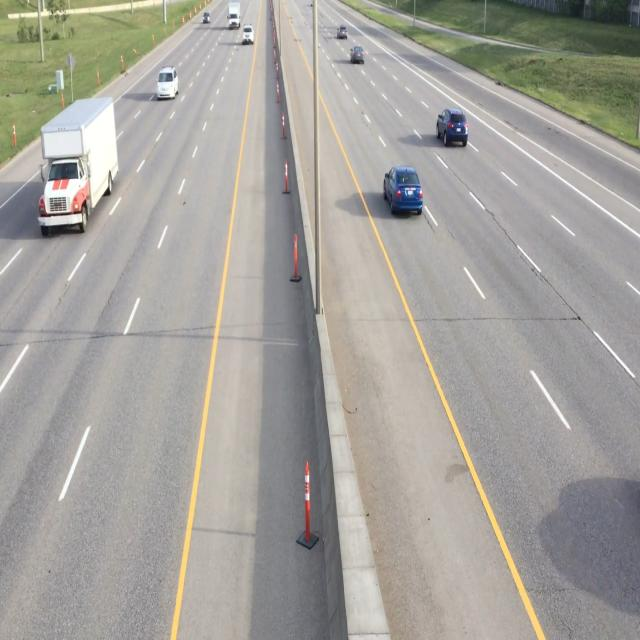Car: (38, 94, 119, 236), (384, 164, 424, 219), (436, 104, 470, 151), (156, 60, 180, 102), (228, 0, 241, 32), (351, 45, 366, 65), (336, 22, 350, 40), (243, 24, 255, 44), (202, 9, 212, 26)
